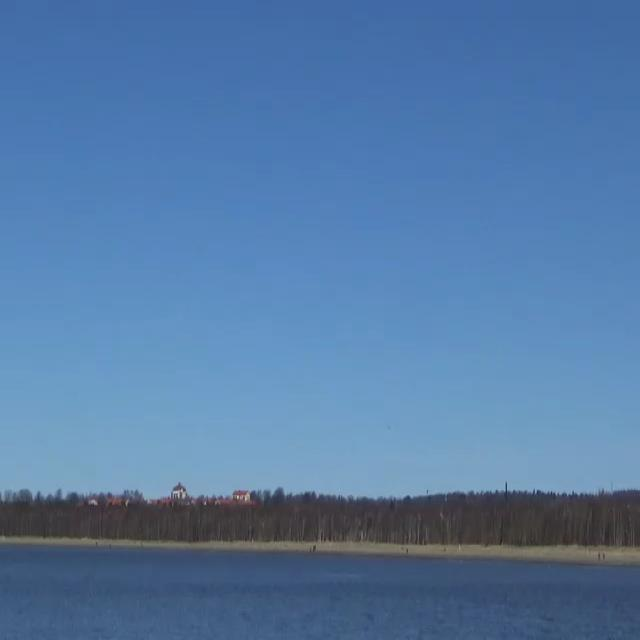Helicopter: (374, 411, 404, 445)
